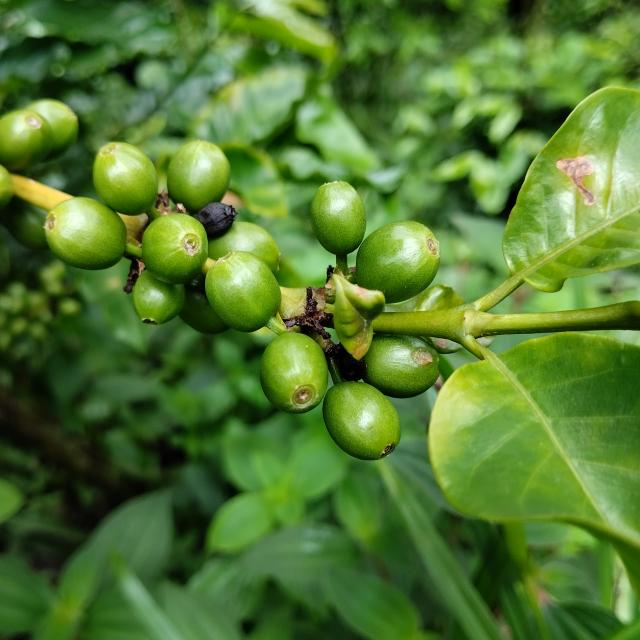Unripe: (355, 220, 440, 303), (323, 382, 401, 461), (205, 251, 281, 332), (44, 197, 126, 270), (260, 332, 328, 414), (363, 334, 440, 399), (92, 141, 158, 215), (141, 212, 207, 284), (167, 140, 231, 213), (310, 181, 366, 255), (208, 221, 280, 273), (25, 98, 78, 158), (0, 109, 52, 170), (133, 270, 185, 325), (178, 289, 229, 334)
